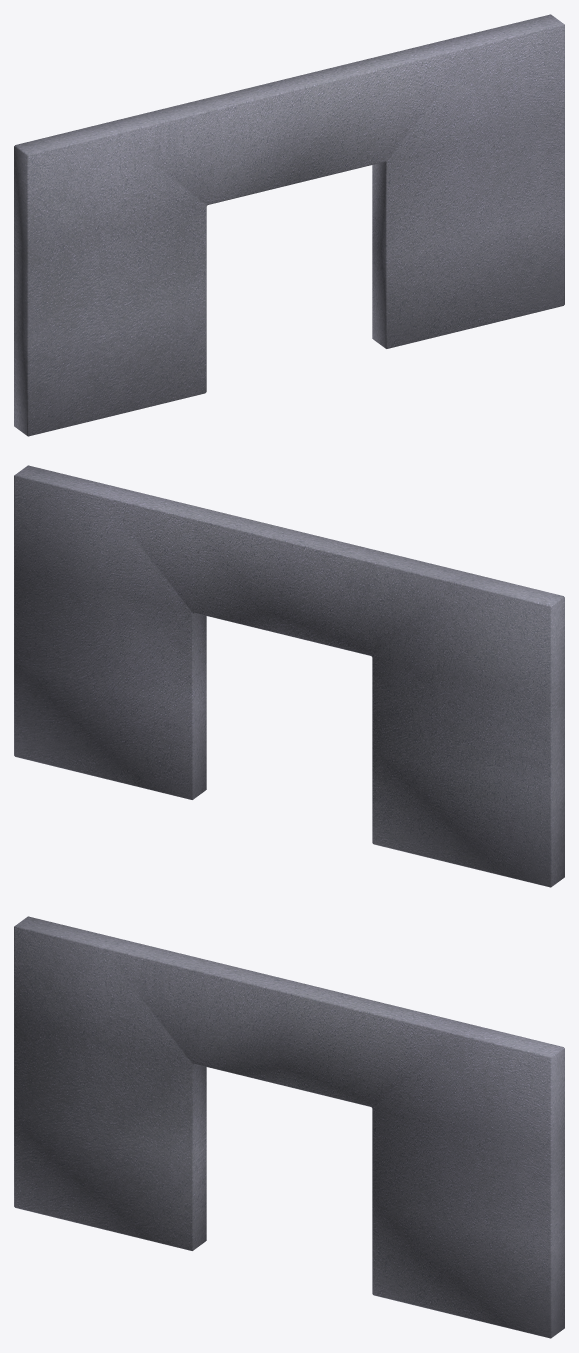
The model's file is ConcreteWall_Med_DoorFrame.FBX.
3 renders of one model, top to bottom at view 1: azimuth 30°, elevation 25°; view 2: azimuth 150°, elevation 25°; view 3: azimuth 330°, elevation 25°, orthographic.
Visible parts, largest first — view 1: Wall_DoorFrame001; view 2: Wall_DoorFrame001; view 3: Wall_DoorFrame001.
Boxes of the visible parts, box(x1,y1,x2,y2) form: Wall_DoorFrame001: box(14, 14, 564, 436); Wall_DoorFrame001: box(14, 465, 564, 887); Wall_DoorFrame001: box(14, 916, 564, 1338).
Bounding box in the file's own units: 652 × 327 × 30.48.
